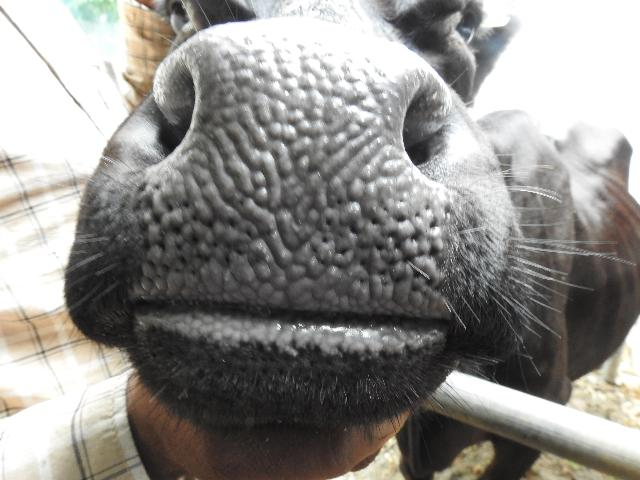Muzzle: (200, 37, 402, 303)
